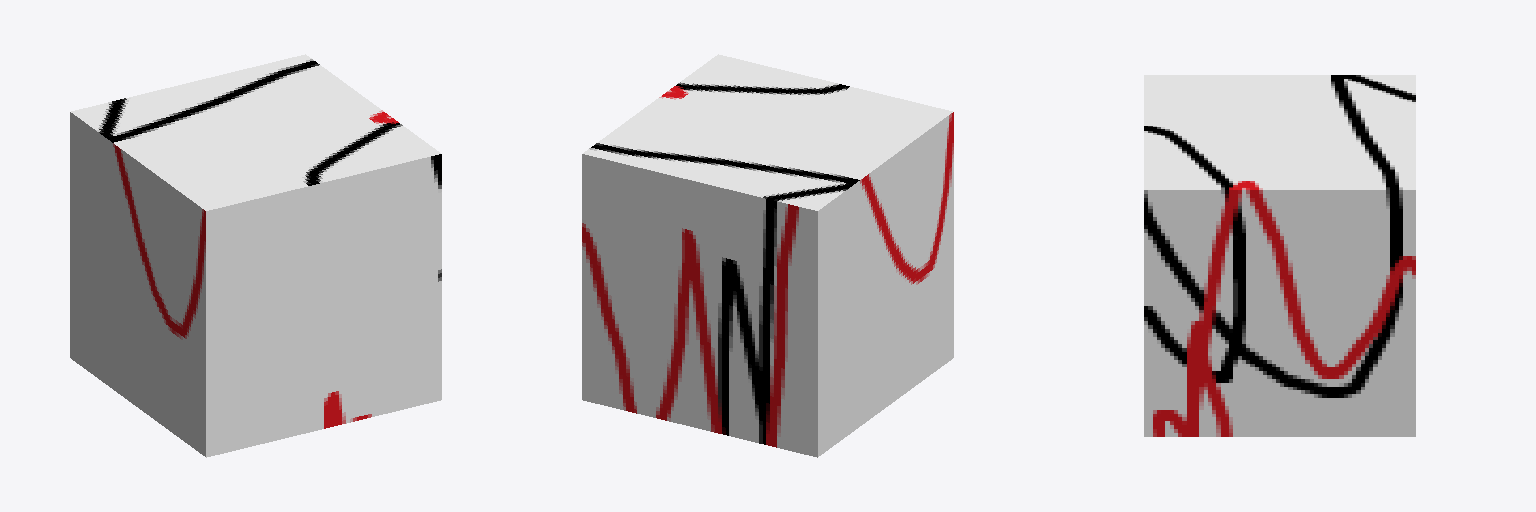
3 renders of one model, left to right at view 1: azimuth 30°, elevation 25°; view 2: azimuth 150°, elevation 25°; view 3: azimuth 270°, elevation 25°, orthographic.
Visible parts, largest first — view 1: Cube; view 2: Cube; view 3: Cube.
Part boxes in pixels (bbox=[...]): Cube: bbox=[70, 54, 441, 457]; Cube: bbox=[582, 54, 953, 457]; Cube: bbox=[1144, 75, 1415, 436].
Size of the model in its own units: 1 by 1 by 1.
1 materials, 1 textured.